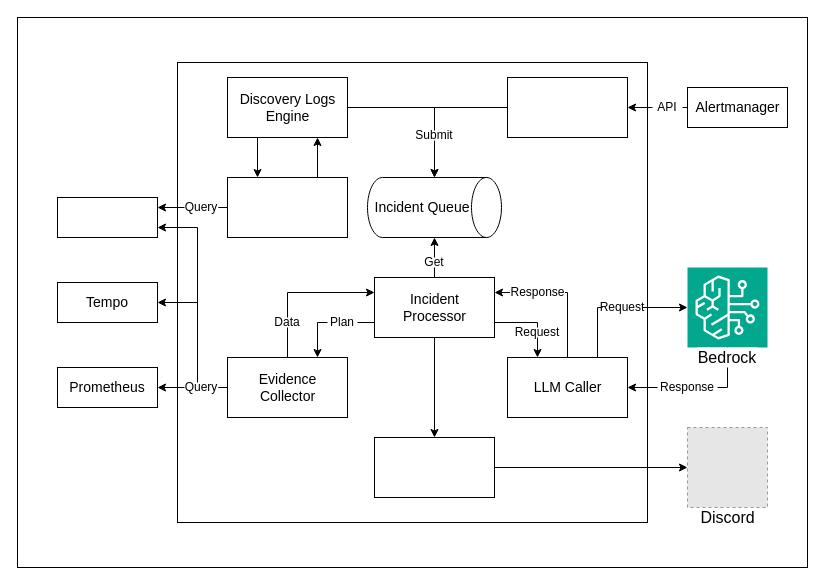
This 825x585 diagram has some shape labels left out. Grey dashed boxes stand in for pictures. The shapes that lost their labels are listed below. From the top down, each one's centre as x and y in pixels, then its label:
At pixel 567 107: "Webhook Intake".
At pixel 107 217: "Loki".
At pixel 287 207: "Pattern Catalog".
At pixel 434 467: "Notification".
